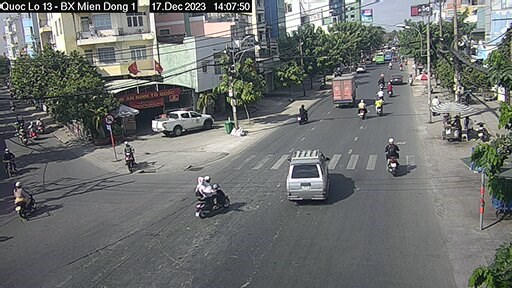bus: (375, 51, 385, 65)
car: (285, 146, 333, 205), (151, 110, 211, 136)
motorbike: (194, 175, 230, 219), (12, 183, 32, 217), (385, 139, 402, 176), (291, 103, 312, 126), (120, 140, 136, 169), (356, 96, 371, 122), (373, 96, 388, 117), (388, 73, 403, 84), (374, 73, 384, 87), (385, 83, 396, 95)
truck: (329, 75, 359, 110)
